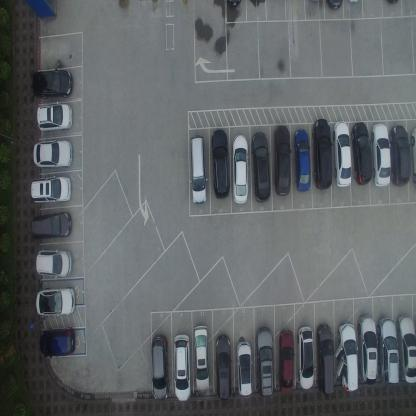car: (311, 119, 333, 190), (376, 318, 399, 385), (356, 314, 378, 384), (250, 131, 271, 202), (315, 323, 335, 396), (254, 325, 274, 397), (338, 320, 358, 392), (350, 121, 372, 186), (272, 125, 292, 196), (396, 314, 416, 384), (31, 67, 74, 99), (211, 128, 230, 199), (149, 334, 169, 401), (332, 120, 352, 187), (371, 122, 391, 188), (31, 173, 72, 205), (38, 324, 76, 358), (172, 331, 190, 402), (189, 134, 207, 205), (30, 210, 72, 240), (32, 138, 74, 168), (390, 124, 410, 186), (35, 286, 76, 316), (36, 101, 73, 134), (232, 134, 249, 205), (297, 325, 315, 391), (35, 247, 73, 278), (192, 323, 209, 392), (215, 334, 232, 402), (292, 129, 310, 192), (277, 328, 294, 394), (236, 340, 252, 396), (410, 126, 416, 186)
